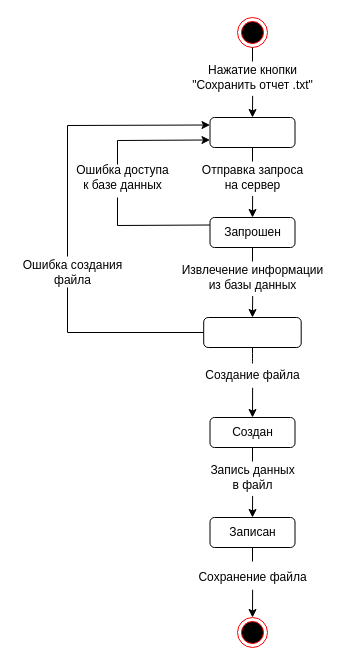
This 349x665 diagram has some shape labels left out. The centre of each missing label's shape, as x and y in pixels:
"Обрабатывается" belongs at point (252, 332).
"Ожидается" belongs at point (252, 132).
